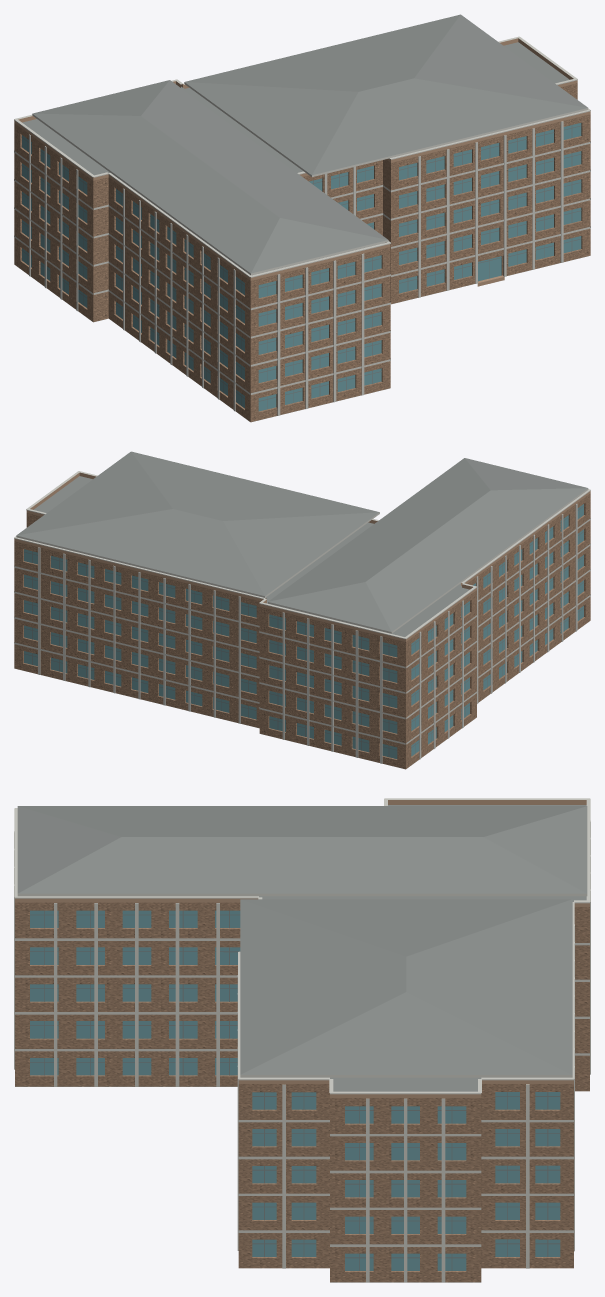
3 renders of one model, top to bottom at view 1: azimuth 30°, elevation 25°; view 2: azimuth 150°, elevation 25°; view 3: azimuth 270°, elevation 25°, orthographic. The views are drawn at different scales.
Parts seen in each view (by area): view 1: education__roof, education__wall, education__glass, education__trim, education__frame, education__parapet; view 2: education__roof, education__wall, education__glass, education__trim, education__frame, education__parapet; view 3: education__roof, education__wall, education__glass, education__trim, education__parapet, education__frame.
Boxes of the visible parts, x1,y1,x2,y2 form: education__roof: (21,14,588,422); education__wall: (14,83,590,422); education__glass: (22,123,581,411); education__trim: (14,36,590,415); education__frame: (21,125,581,409); education__parapet: (14,38,590,280); education__roof: (16,451,589,769); education__wall: (14,493,590,769); education__glass: (24,504,583,758); education__trim: (14,471,590,763); education__frame: (23,506,584,756); education__parapet: (14,472,590,641); education__roof: (15,805,587,1282); education__wall: (15,902,589,1282); education__glass: (30,910,560,1270); education__trim: (14,798,590,1282); education__parapet: (15,800,589,1097); education__frame: (30,910,560,1270).
Bounding box in the file's own units: 61.9 × 20.45 × 51.11.
8 materials, 1 textured.
